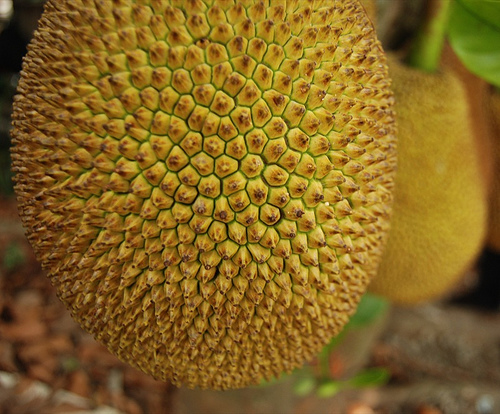jackfruit: (10, 0, 396, 392), (365, 0, 487, 303)
